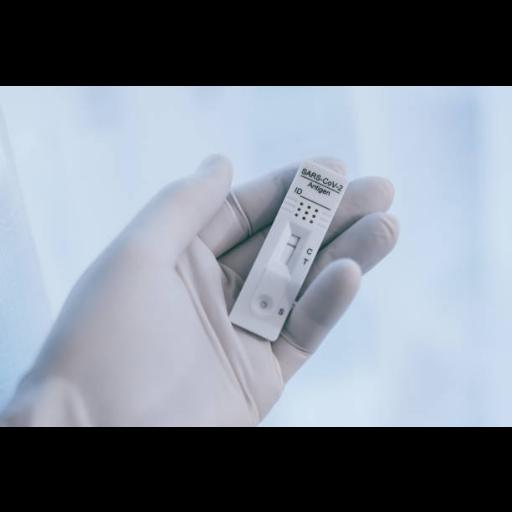Neg: (228, 157, 350, 344)
